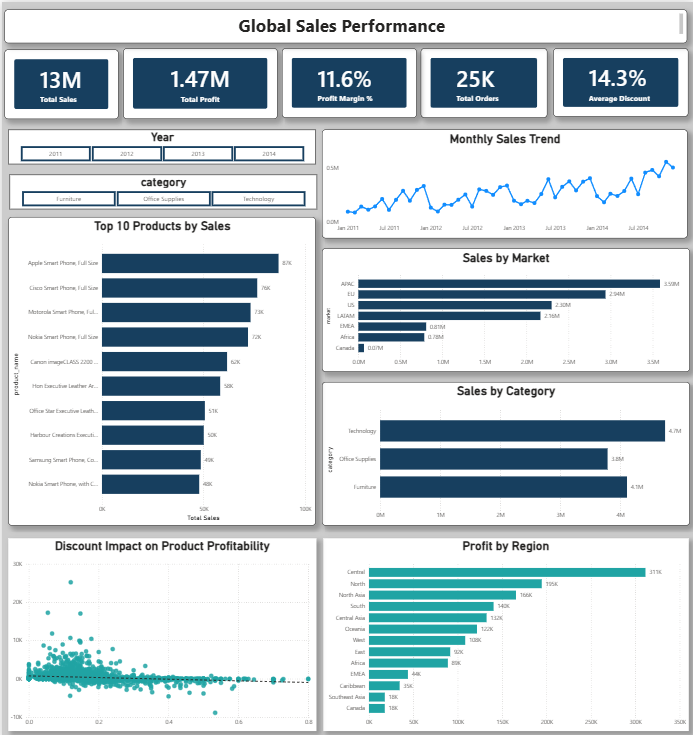

What the dashboard file says about the page in this screenshot:
{"tool":"powerbi","page":{"name":"Page 1","canvas":[1500,1600],"ordinal":0},"visuals":[{"type":"cardVisual","fields":{"Data":["SuperStoreOrders(AutoRecovered).Total Sales"]},"box":[6.2,102.5,246.2,150],"z":0},{"type":"cardVisual","fields":{"Data":["SuperStoreOrders(AutoRecovered).Total Profit"]},"box":[261.2,100,333.8,152.5],"z":1000},{"type":"cardVisual","fields":{"Data":["SuperStoreOrders(AutoRecovered).Total Orders"]},"box":[906.2,100,273.8,150],"z":2000},{"type":"cardVisual","fields":{"Data":["SuperStoreOrders(AutoRecovered).Average Discount"]},"box":[1191.2,98.8,292,148],"z":3000},{"type":"cardVisual","fields":{"Data":["SuperStoreOrders(AutoRecovered).Profit Margin %"]},"box":[605,98.8,291.2,150],"z":4000},{"type":"lineChart","title":"Monthly Sales Trend","fields":{"Category":["SuperStoreOrders(AutoRecovered).order_date.Variation.Date Hierarchy.Year","SuperStoreOrders(AutoRecovered).order_date.Variation.Date Hierarchy.Month"],"Y":["SuperStoreOrders(AutoRecovered).Total Sales"]},"box":[692.5,275,790,235],"z":5000},{"type":"clusteredBarChart","title":"Sales by Category","fields":{"Category":["SuperStoreOrders(AutoRecovered).category"],"Y":["SuperStoreOrders(AutoRecovered).Total Sales"]},"box":[692.5,822.5,795,310],"z":6000},{"type":"clusteredBarChart","title":"Profit by Region","fields":{"Y":["SuperStoreOrders(AutoRecovered).Total Profit"],"Category":["SuperStoreOrders(AutoRecovered).region"]},"box":[693.3,1160,790,416.7],"z":7000},{"type":"clusteredBarChart","title":"Top 10 Products by Sales","fields":{"Y":["SuperStoreOrders(AutoRecovered).Total Sales"],"Category":["SuperStoreOrders(AutoRecovered).product_name"]},"box":[12.5,465,665,667.5],"z":8000},{"type":"clusteredBarChart","title":"Sales by Market","fields":{"Category":["SuperStoreOrders(AutoRecovered).market"],"Y":["SuperStoreOrders(AutoRecovered).Total Sales"]},"box":[692.5,532.5,795,267.5],"z":9000},{"type":"slicer","title":"Year","fields":{"Values":["SuperStoreOrders(AutoRecovered).year"]},"box":[12.5,275,665,75],"z":10000},{"type":"slicer","title":"category","fields":{"Values":["SuperStoreOrders(AutoRecovered).category"]},"box":[15,372.5,665,75],"z":11000},{"type":"textbox","box":[6.2,17.5,1476.2,72.5],"z":12000},{"type":"scatterChart","title":"Discount Impact on Product Profitability","fields":{"X":["Avg(SuperStoreOrders(AutoRecovered).discount)"],"Y":["Sum(SuperStoreOrders(AutoRecovered).profit)"],"Category":["SuperStoreOrders(AutoRecovered).product_name"]},"box":[13.3,1160,666.7,416.7],"z":13000}]}

Visuals, with their boxes in screenshot pixels (x1, y1, x2, y2), scaled from the page's 1500x1600 canvas onto the 693x735 screenshot:
cardVisual - SuperStoreOrders(AutoRecovered).Total Sales: 3 47 117 116
cardVisual - SuperStoreOrders(AutoRecovered).Total Profit: 121 46 275 116
cardVisual - SuperStoreOrders(AutoRecovered).Total Orders: 419 46 545 115
cardVisual - SuperStoreOrders(AutoRecovered).Average Discount: 550 45 685 113
cardVisual - SuperStoreOrders(AutoRecovered).Profit Margin %: 280 45 414 114
"Monthly Sales Trend" lineChart: 320 126 685 234
"Sales by Category" clusteredBarChart: 320 378 687 520
"Profit by Region" clusteredBarChart: 320 533 685 724
"Top 10 Products by Sales" clusteredBarChart: 6 214 313 520
"Sales by Market" clusteredBarChart: 320 245 687 368
"Year" slicer: 6 126 313 161
"category" slicer: 7 171 314 206
textbox: 3 8 685 41
"Discount Impact on Product Profitability" scatterChart: 6 533 314 724
